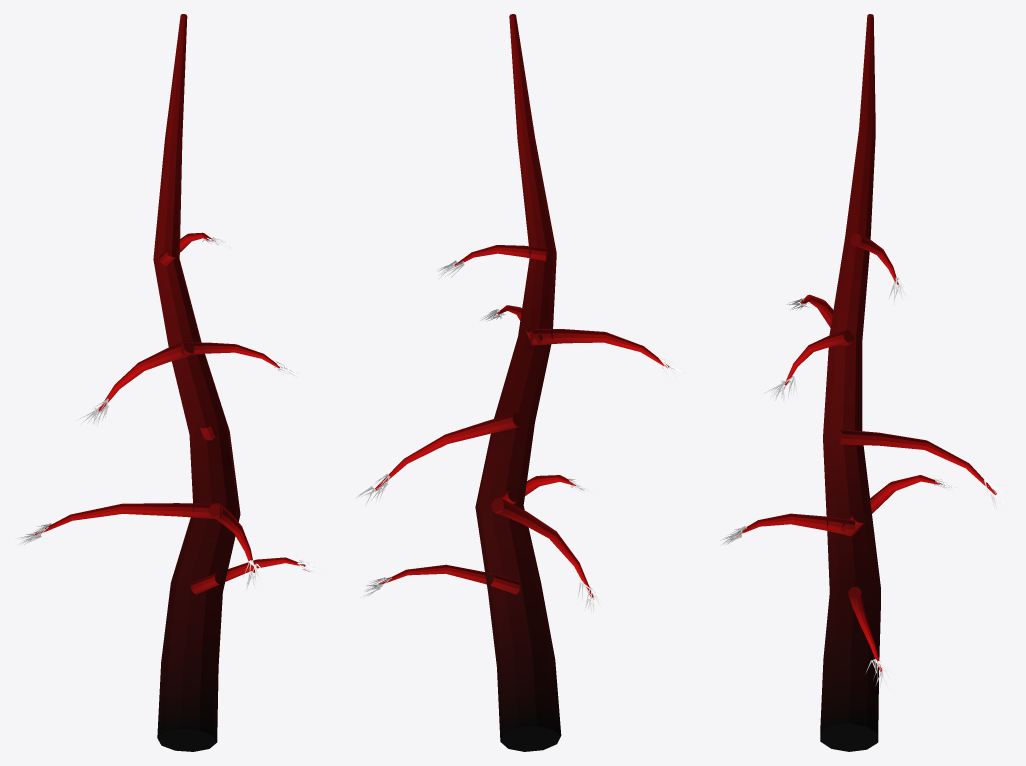
File: pine-tall.glb
3 renders of one model, left to right at view 1: azimuth 30°, elevation 25°; view 2: azimuth 150°, elevation 25°; view 3: azimuth 270°, elevation 25°, orthographic.
Visible parts, largest first — view 1: pine-tall; view 2: pine-tall; view 3: pine-tall.
Part boxes in pixels (x1=…): pine-tall: x1=18, y1=14, x2=323, y2=751; pine-tall: x1=356, y1=14, x2=687, y2=751; pine-tall: x1=720, y1=14, x2=1009, y2=751.
Size of the model in its own units: 3.07 by 7.5 by 2.74.
